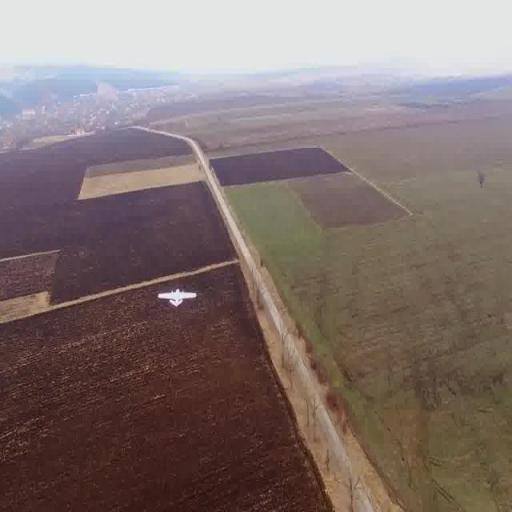uav: (154, 286, 200, 312)
